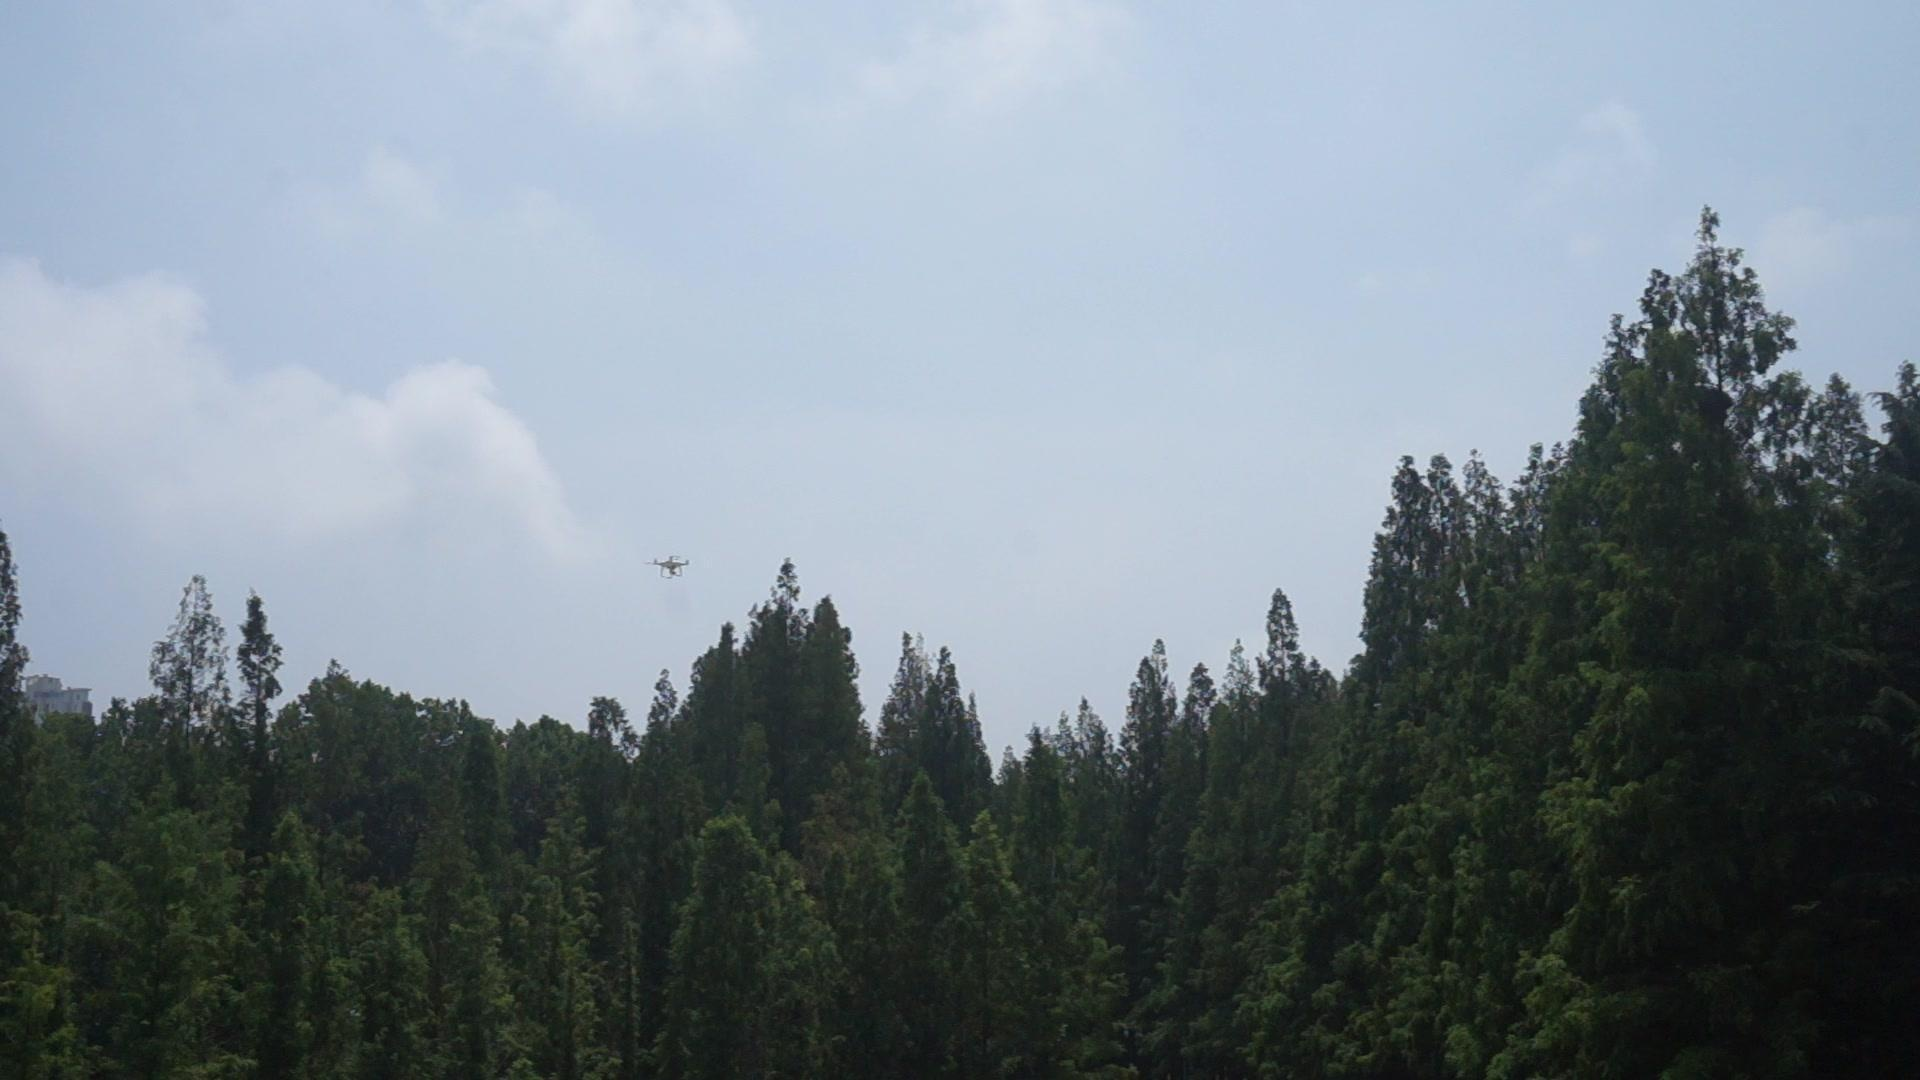UAV: (644, 556, 691, 579)
